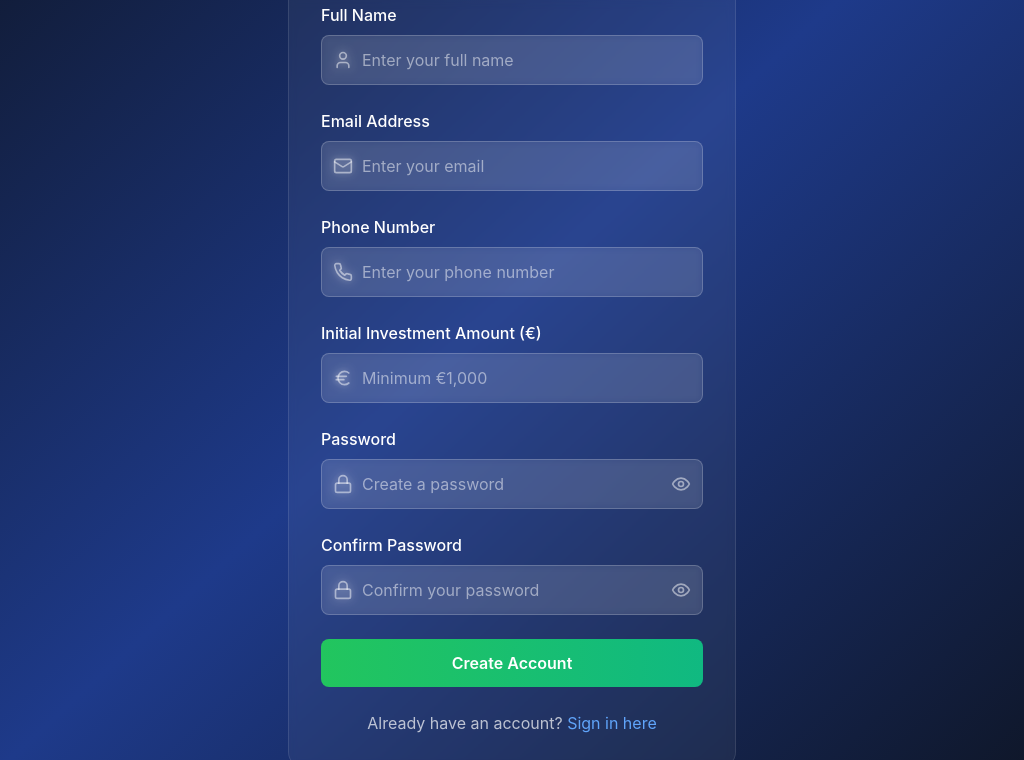
Test case: End-to-End User Flows › Registration Flow › should validate form inputs
The image size is (1024, 760).
(page scrolled)
Click the button "Create Account": (512, 663) [321,639,703,687]
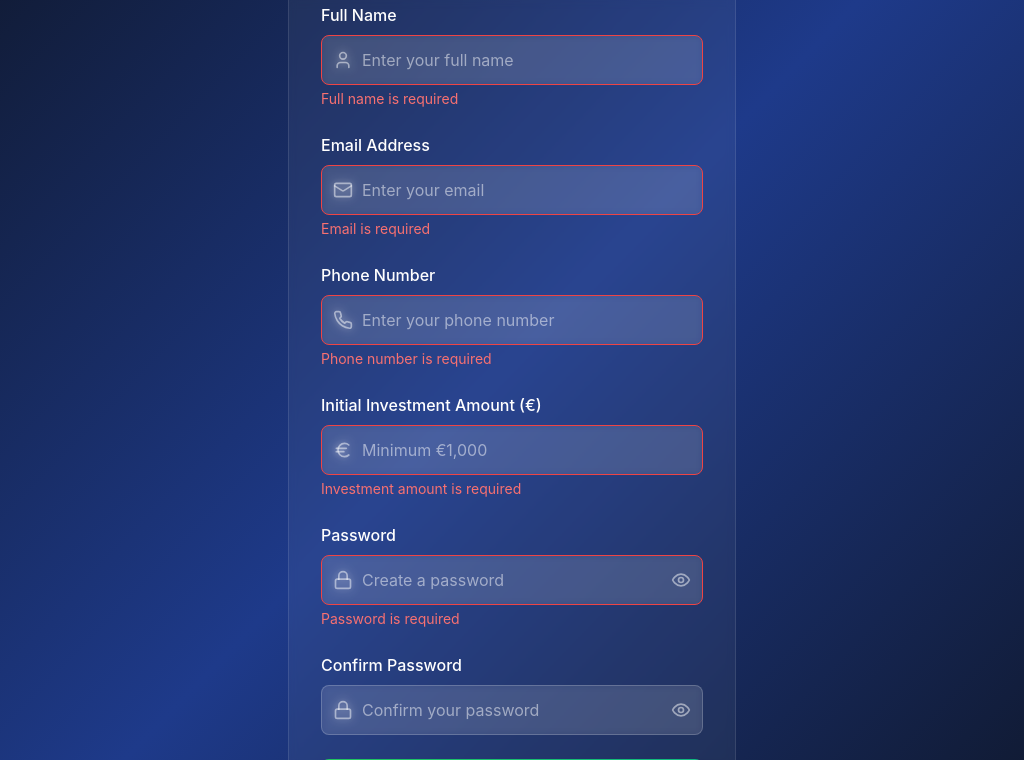
Expected: the text "Full name is required" is shown, [321,90,458,107]
Expected: the text "Email is required" is shown, [321,220,430,237]
Expected: the text "Password is required" is shown, [321,610,460,627]
